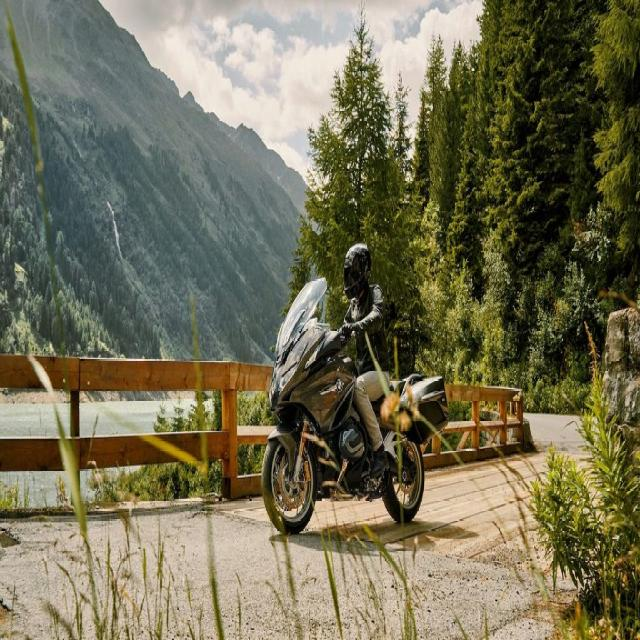Motorcycle: (262, 278, 449, 533)
